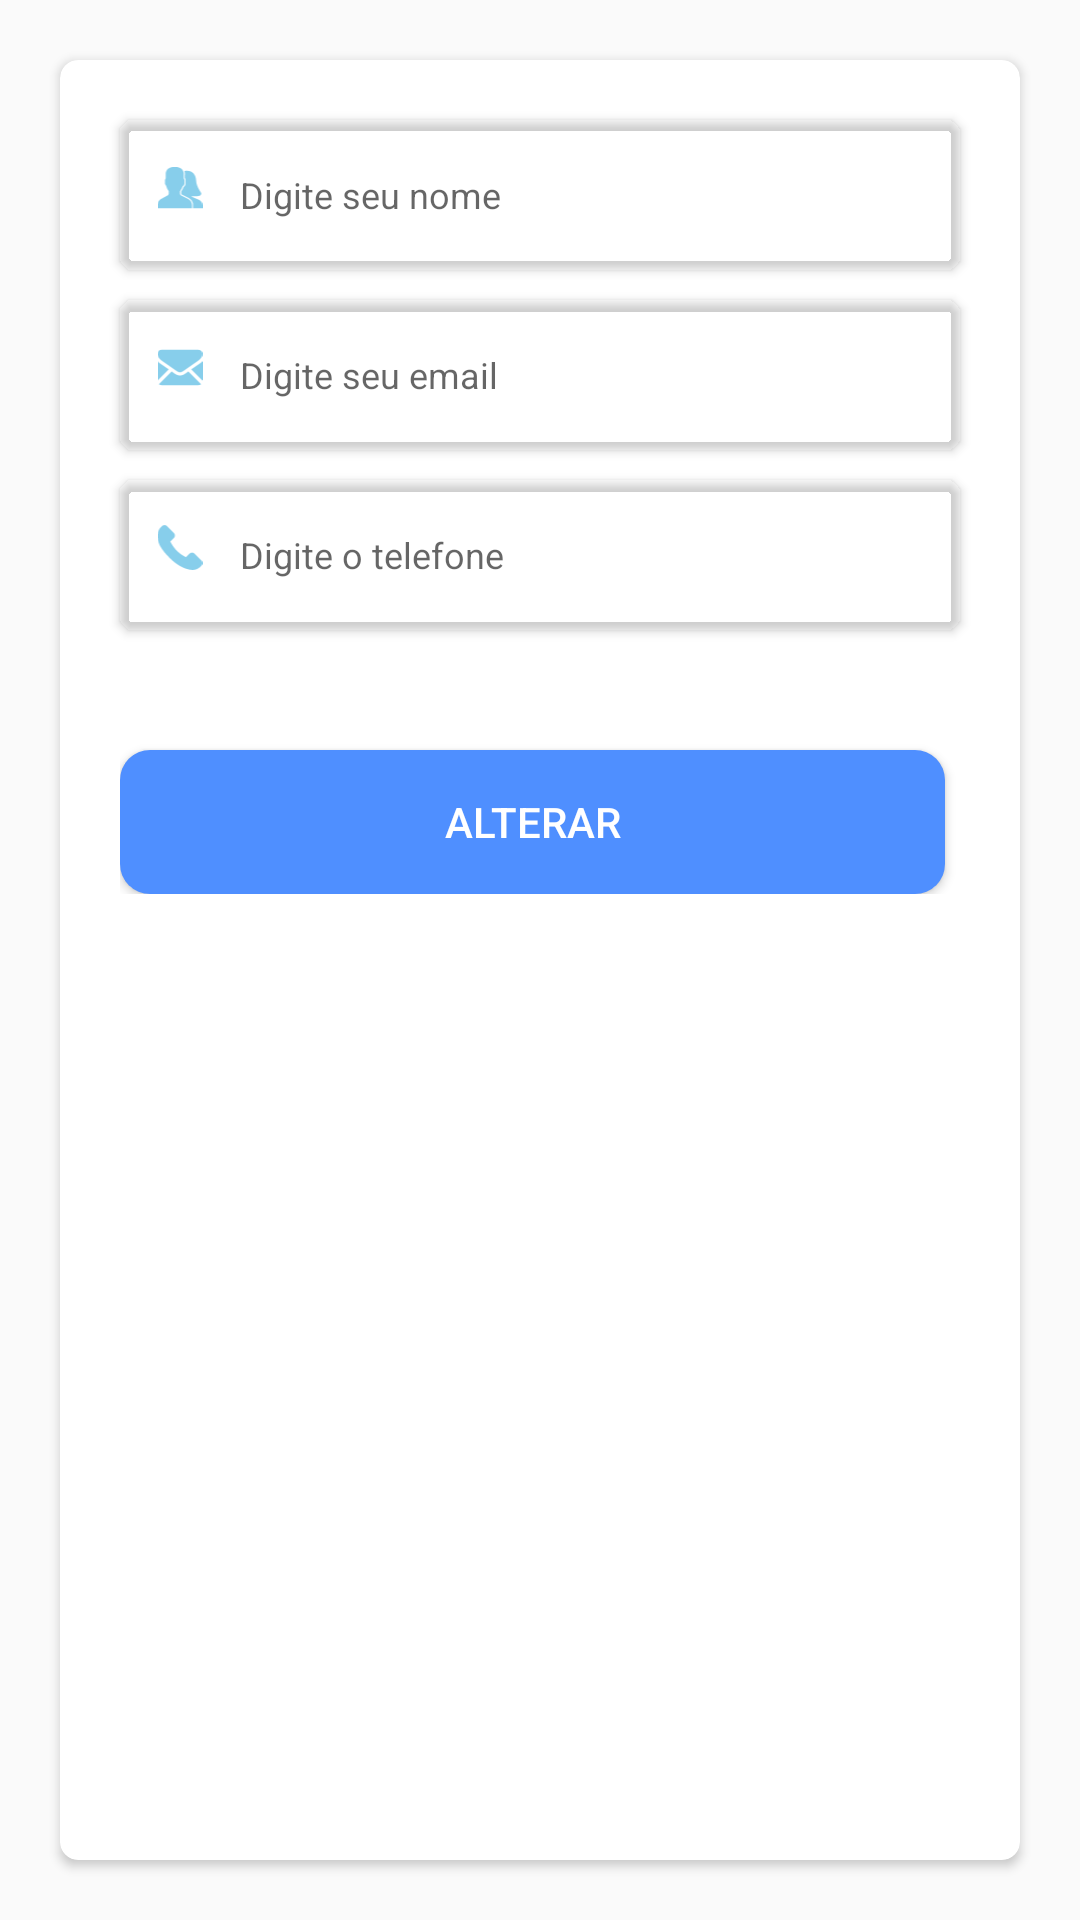

Where icons sit on this 1080w x 1920h app screen, as (x1, y1, x2, y2):
tell: (158, 525, 203, 570)
user: (158, 167, 203, 209)
